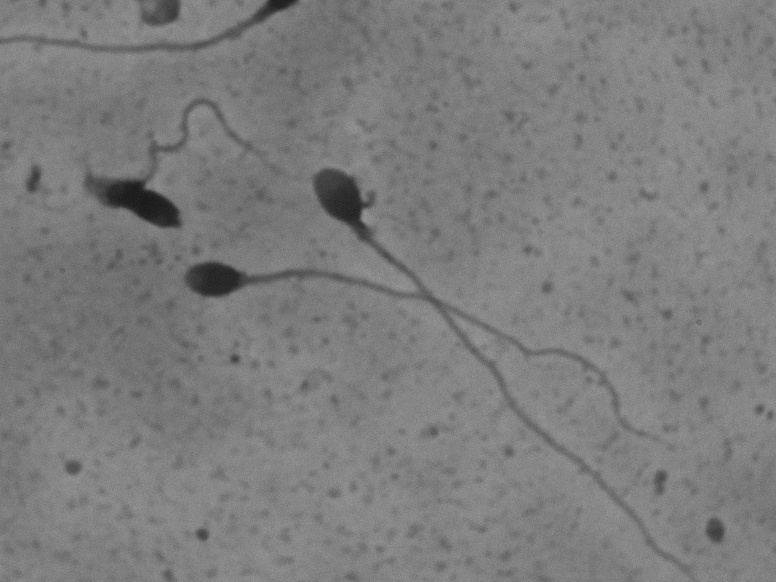Abnormal: (51, 88, 279, 238)
Normal: (297, 139, 689, 570), (166, 253, 688, 453)
